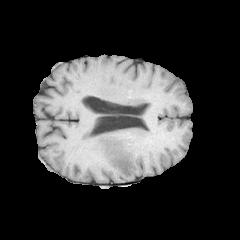glioma: (91, 130, 137, 177)
